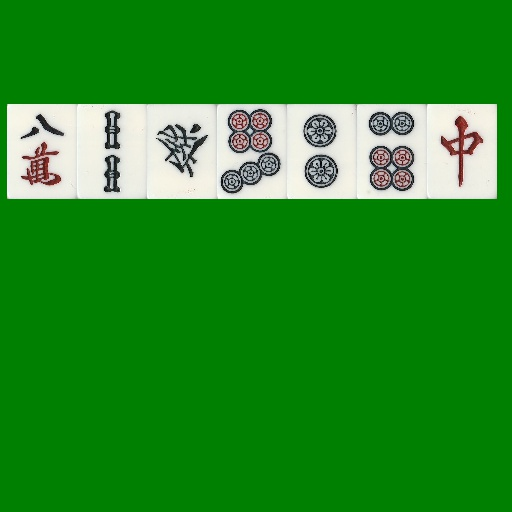2p: (287, 104, 357, 199)
2s: (77, 104, 147, 199)
6p: (357, 104, 427, 199)
7p: (217, 104, 287, 199)
8m: (7, 104, 77, 199)
hatsu: (147, 104, 217, 199)
tyun: (427, 104, 497, 199)
